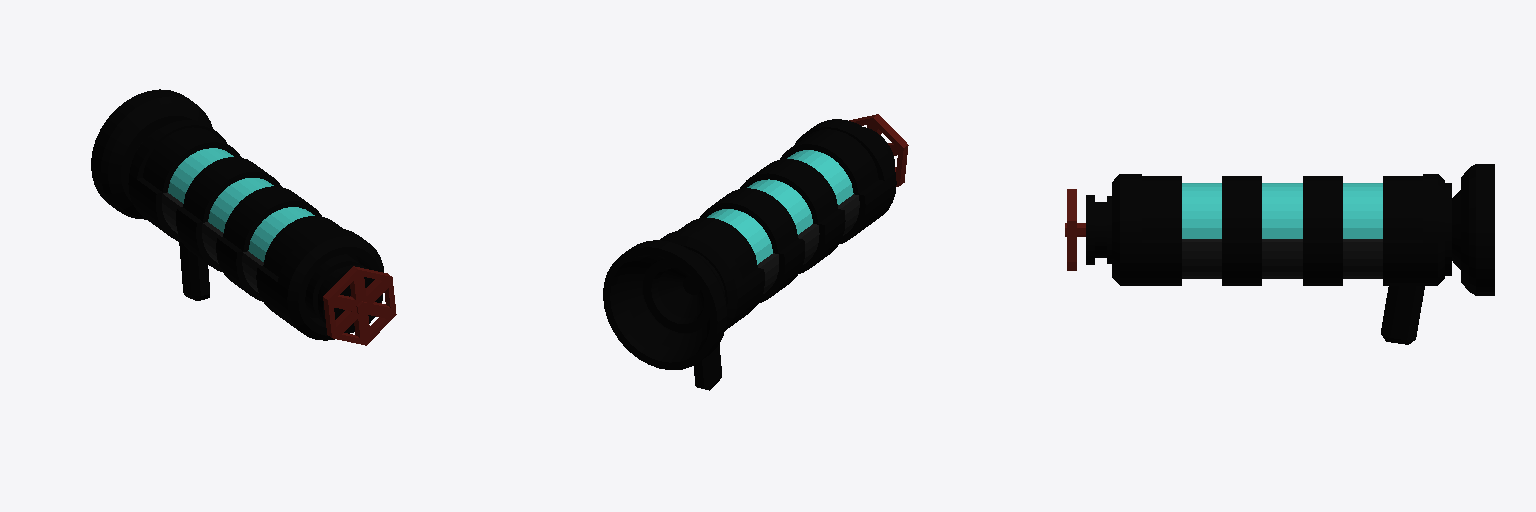
File: vacuum_gun.obj
3 views of the same model, side by side, from view 1: azimuth 30°, elevation 25°; view 2: azimuth 150°, elevation 25°; view 3: azimuth 270°, elevation 25° (orthographic).
Parts seen in each view (by area): view 1: Cylinder, Cylinder.001, Cube.002; view 2: Cylinder, Cylinder.001, Cube.002; view 3: Cylinder, Cube.002, Cylinder.001.
Boxes of the visible parts, x1=… form: Cylinder: x1=91, y1=89, x2=383, y2=340; Cylinder.001: x1=323, y1=266, x2=396, y2=345; Cube.002: x1=179, y1=242, x2=209, y2=300; Cylinder: x1=603, y1=119, x2=896, y2=369; Cylinder.001: x1=849, y1=114, x2=908, y2=186; Cube.002: x1=694, y1=343, x2=721, y2=390; Cylinder: x1=1086, y1=164, x2=1494, y2=295; Cube.002: x1=1381, y1=286, x2=1424, y2=344; Cylinder.001: x1=1065, y1=189, x2=1085, y2=270.
Bounding box in the file's own units: 0.8155 × 1.17 × 2.65.